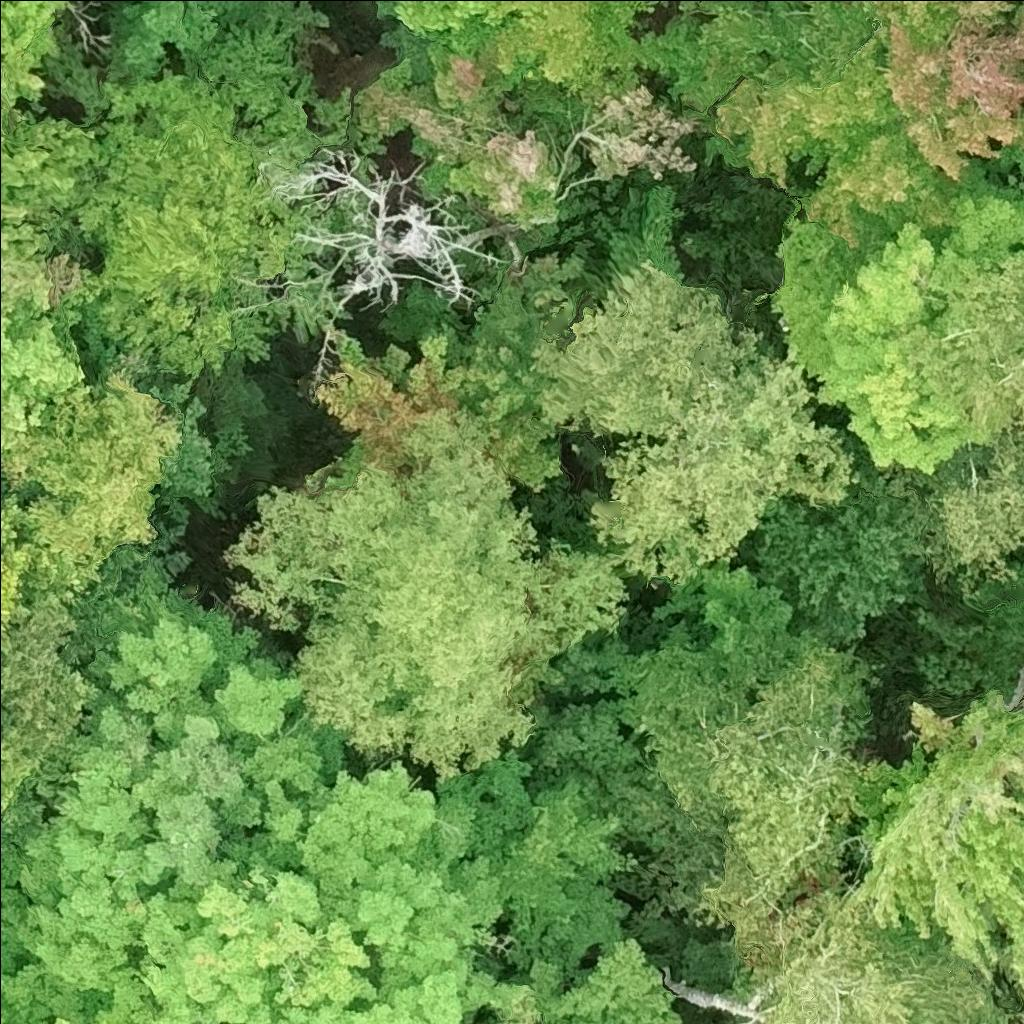crown: (0, 569, 540, 1023), (221, 404, 633, 795), (72, 67, 352, 385), (629, 0, 956, 249), (768, 157, 1023, 476), (640, 628, 875, 955), (585, 328, 867, 590), (849, 688, 1023, 995), (311, 306, 565, 494), (525, 255, 742, 441), (0, 352, 183, 569), (352, 50, 570, 232), (274, 146, 511, 312), (734, 888, 1014, 1023), (0, 109, 107, 455), (737, 476, 936, 656), (862, 0, 1023, 198), (497, 765, 640, 983), (371, 0, 656, 94), (500, 935, 688, 1023), (647, 559, 795, 655), (517, 693, 646, 780), (544, 628, 638, 698), (0, 0, 67, 62), (0, 30, 46, 117), (475, 993, 546, 1023)
